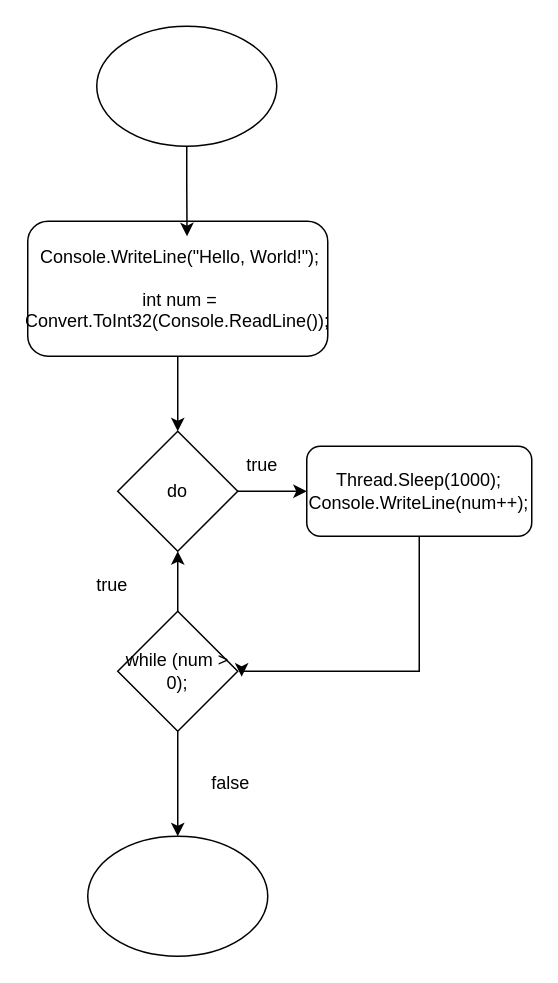
The diagram is 558 pixels wide and 983 high, and some of its shapes have lost their labels. Here are the shapes that lost their labels. From the top down, the box of each, then its label:
(95, 25, 277, 146): start
(86, 835, 268, 956): end
